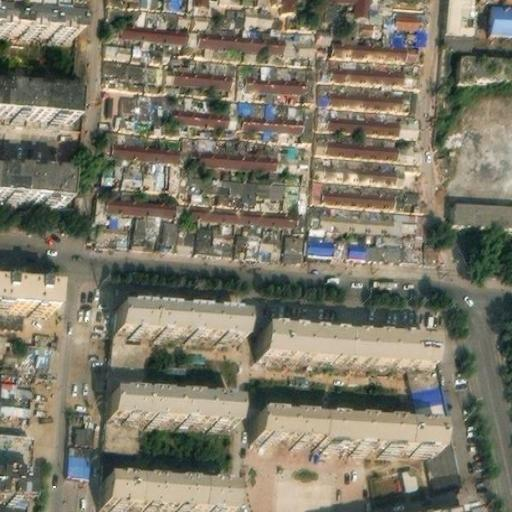building: (402, 356, 461, 490), (257, 407, 440, 444), (263, 323, 435, 362), (104, 326, 146, 477), (102, 474, 238, 510), (109, 388, 241, 422), (187, 217, 304, 255), (117, 300, 246, 334), (308, 222, 415, 255), (309, 197, 416, 229), (187, 170, 294, 199), (0, 1, 78, 39), (94, 208, 177, 242), (100, 151, 176, 188), (189, 202, 305, 224), (0, 79, 75, 112), (191, 145, 306, 166), (0, 162, 68, 197), (311, 184, 417, 204), (315, 136, 417, 156), (317, 110, 419, 130), (316, 88, 410, 108), (5, 325, 52, 364), (315, 162, 411, 181), (96, 191, 178, 213), (321, 61, 420, 78), (456, 47, 512, 76), (452, 195, 512, 222), (241, 71, 309, 93), (369, 498, 467, 512), (104, 56, 163, 79), (102, 138, 177, 156), (386, 4, 429, 35), (328, 40, 416, 55), (162, 64, 231, 83), (117, 87, 153, 123), (215, 5, 274, 25), (115, 20, 184, 37), (127, 5, 185, 25), (242, 112, 306, 130), (193, 27, 244, 47), (105, 41, 161, 59), (484, 4, 512, 38), (63, 448, 91, 480), (243, 31, 285, 49), (176, 107, 228, 121), (68, 421, 93, 447), (284, 33, 315, 51), (0, 471, 19, 500), (352, 17, 380, 31)
